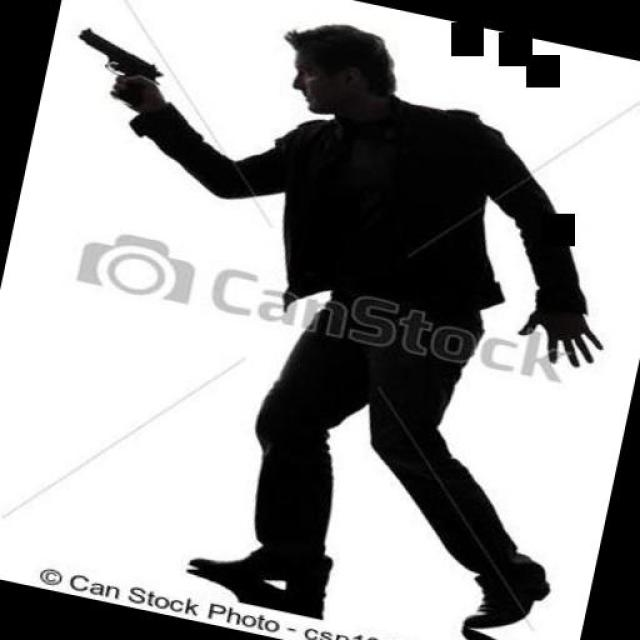gun: (70, 23, 174, 92)
